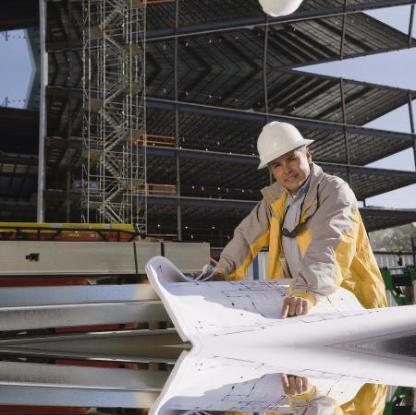helmet: (254, 119, 313, 171)
